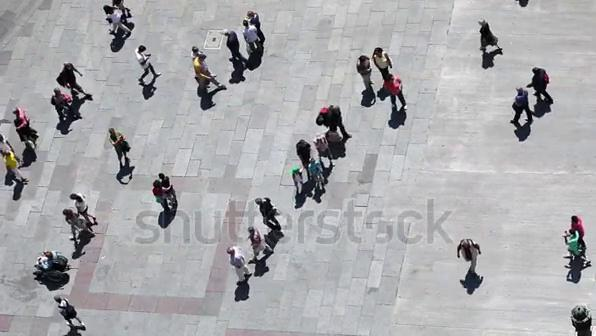person: (32, 248, 74, 286), (318, 105, 349, 144), (525, 65, 552, 108), (57, 62, 89, 98), (564, 230, 589, 276), (225, 29, 251, 73), (52, 89, 81, 127), (64, 209, 95, 244), (254, 196, 281, 235), (196, 53, 217, 103), (229, 246, 252, 289), (56, 296, 85, 330), (306, 157, 330, 197), (457, 238, 481, 278), (136, 45, 160, 85), (477, 18, 502, 56), (11, 108, 39, 141), (384, 73, 408, 111), (248, 228, 273, 264), (510, 87, 532, 126), (5, 150, 27, 188), (71, 191, 96, 224), (105, 5, 129, 38), (373, 46, 395, 82), (109, 128, 129, 167), (356, 54, 376, 92), (294, 138, 314, 175), (316, 135, 337, 168), (159, 173, 180, 206), (244, 20, 262, 58), (0, 133, 20, 166), (152, 179, 167, 221), (246, 9, 264, 40), (569, 216, 585, 248), (291, 166, 305, 196)
